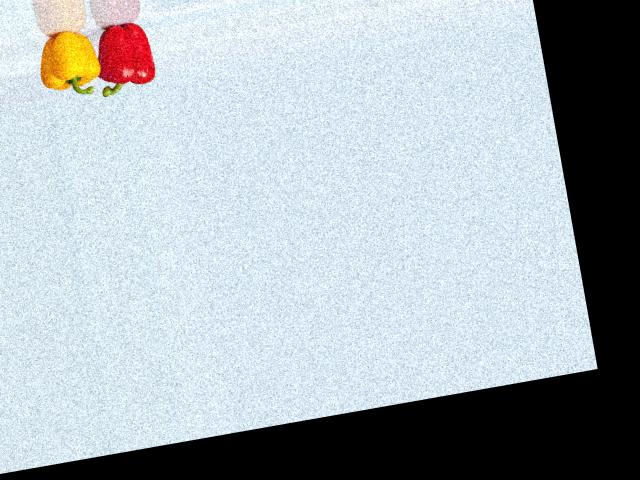bell_pepper: (88, 11, 163, 95)
